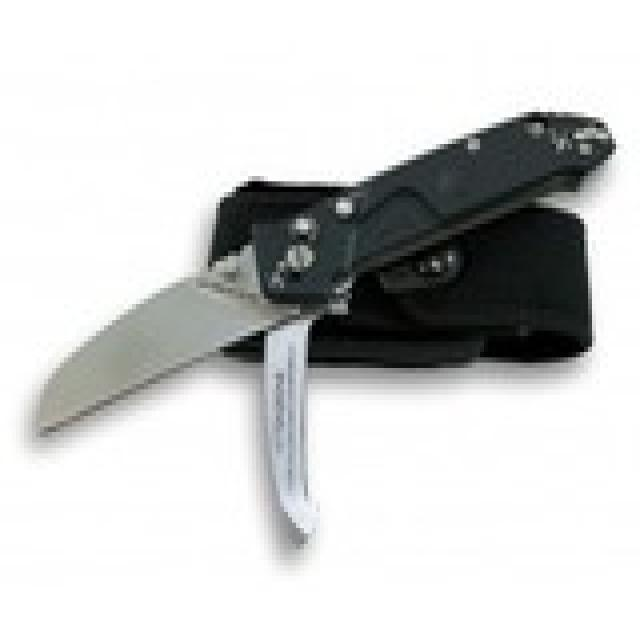Knife: (31, 91, 624, 452)
